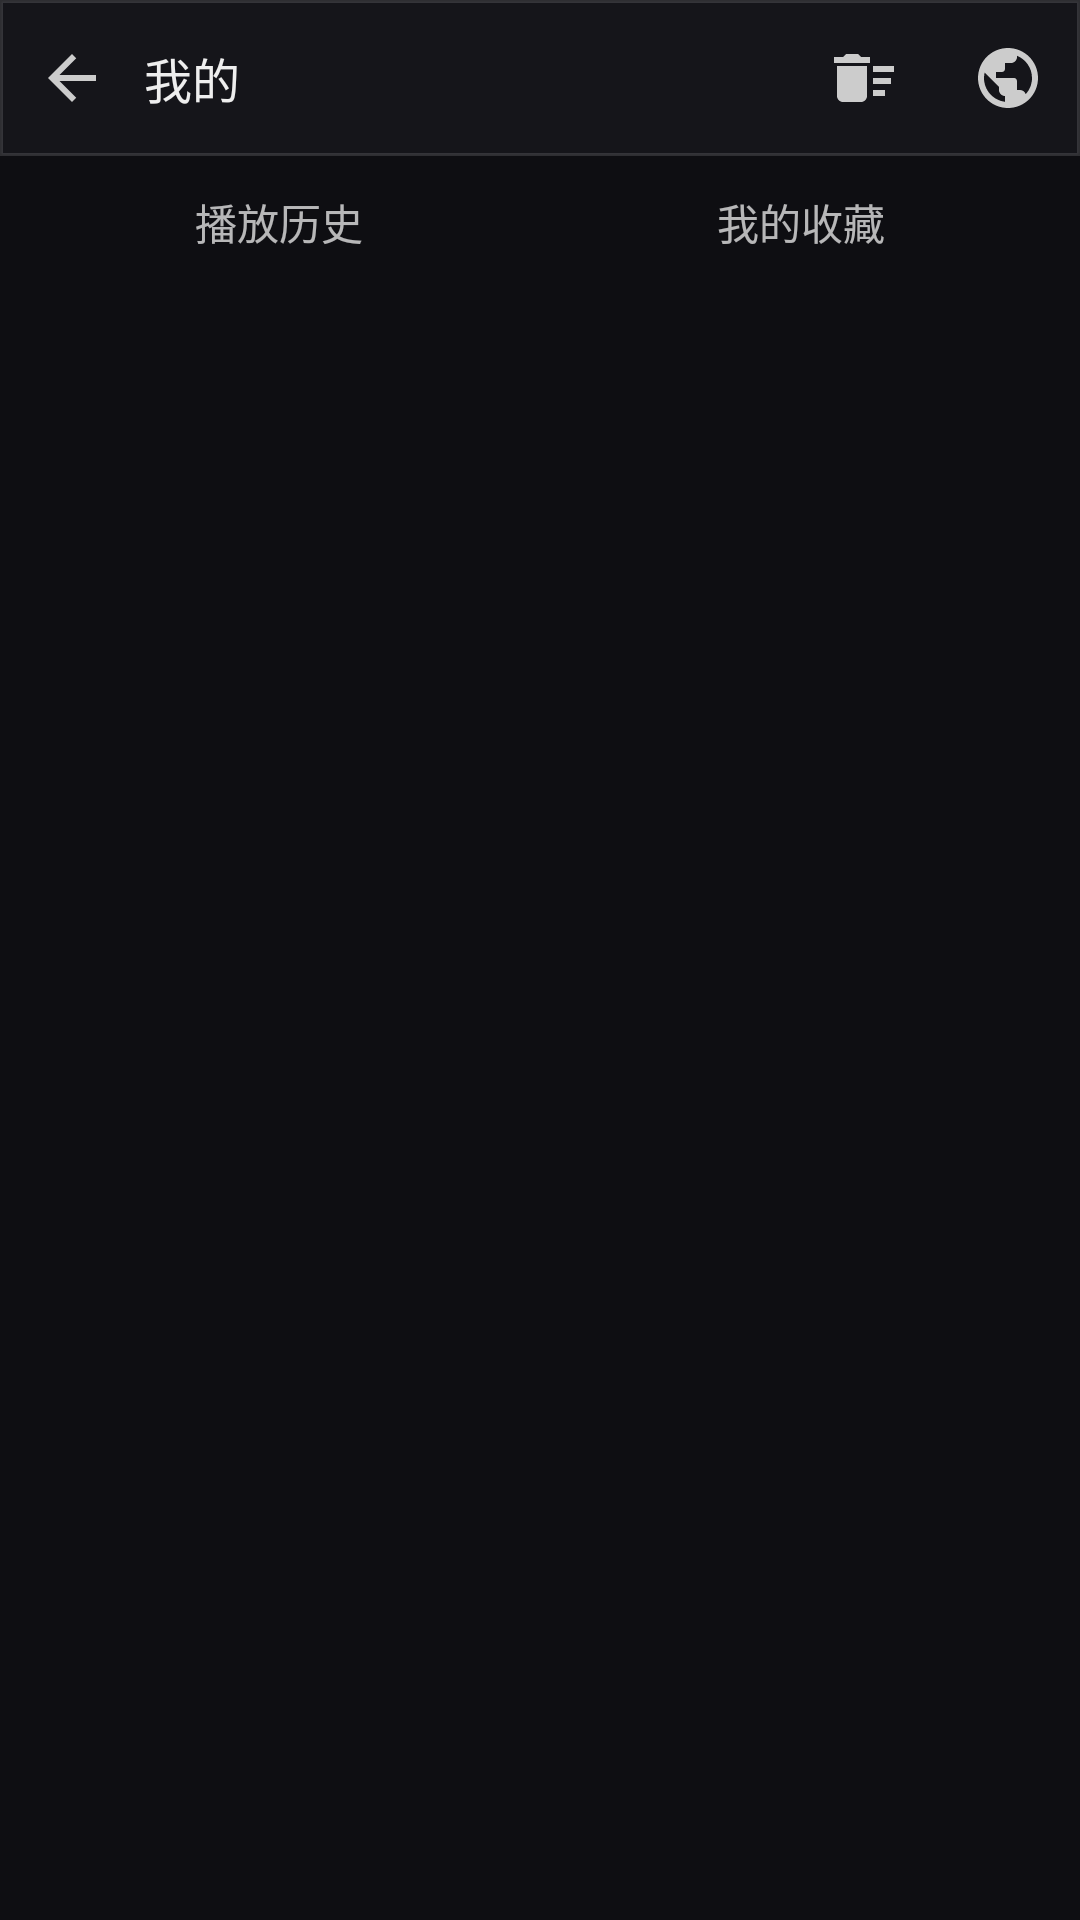

Locate icon controls on the screen. Image size 1080x1920, boxes as (x1,y1,x2,y2).
清空: (834,54,894,102)
网页: (978,48,1038,108)
返回: (0,0,144,156)
